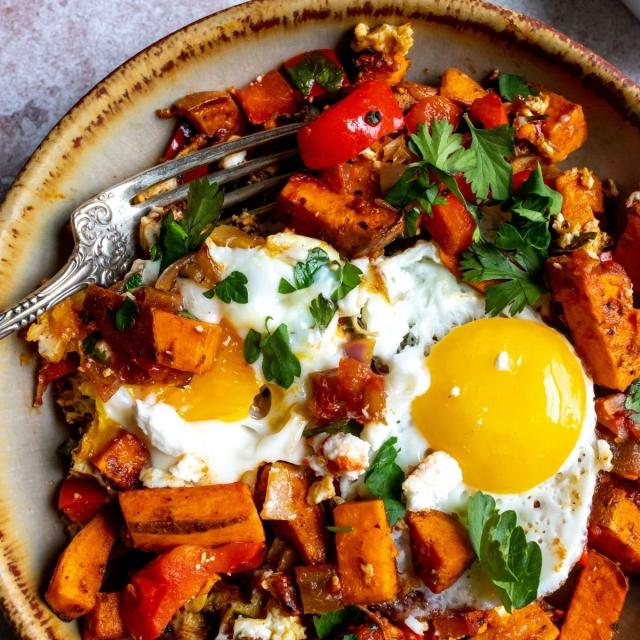Egg: (99, 226, 484, 486), (362, 241, 605, 596)
